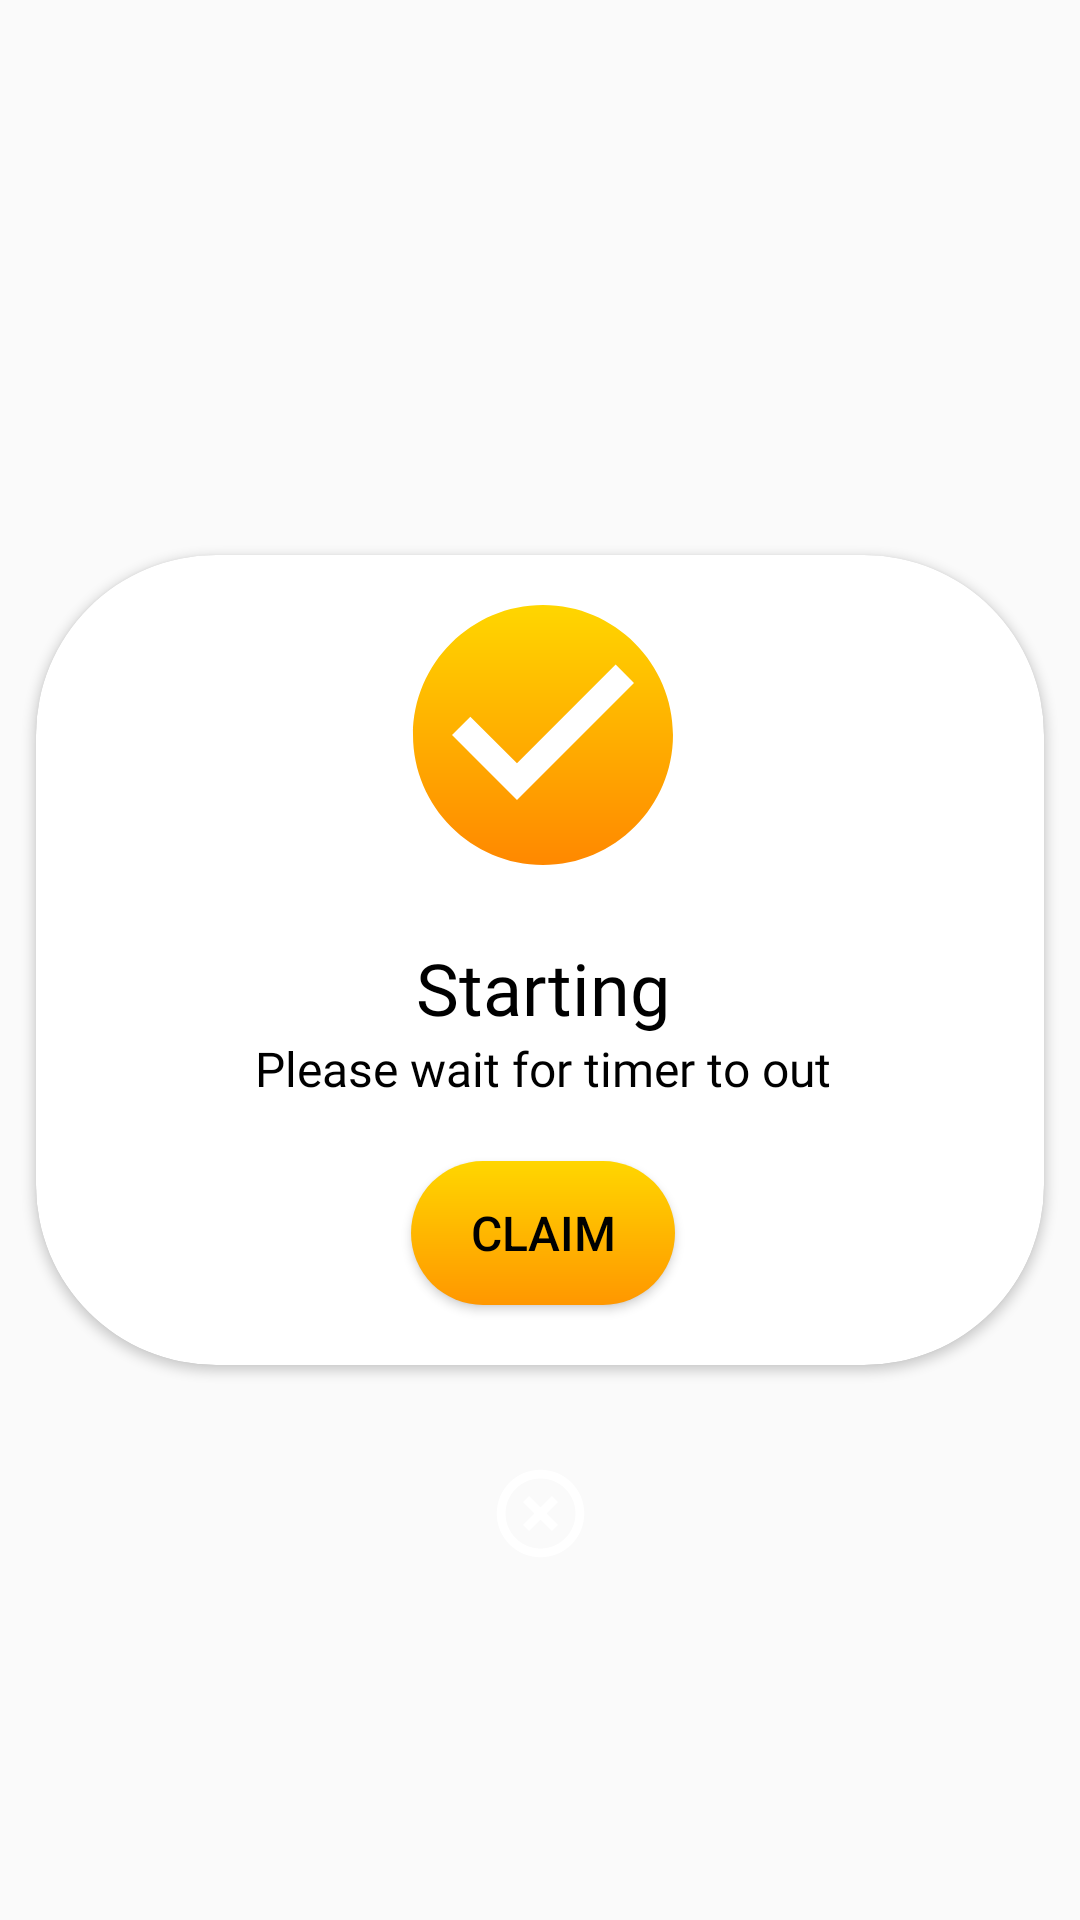

Where icons sit on this 1080px×1920px app screen, as (x1, y1, x2, y2):
correct: (413, 605, 673, 865)
